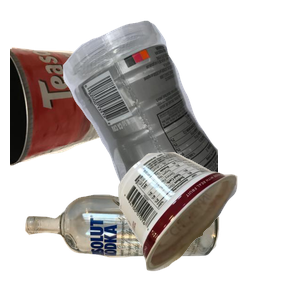glass: (22, 192, 234, 300)
metal: (10, 44, 151, 203)
plastic: (60, 18, 300, 198)
trash: (116, 149, 300, 300)
